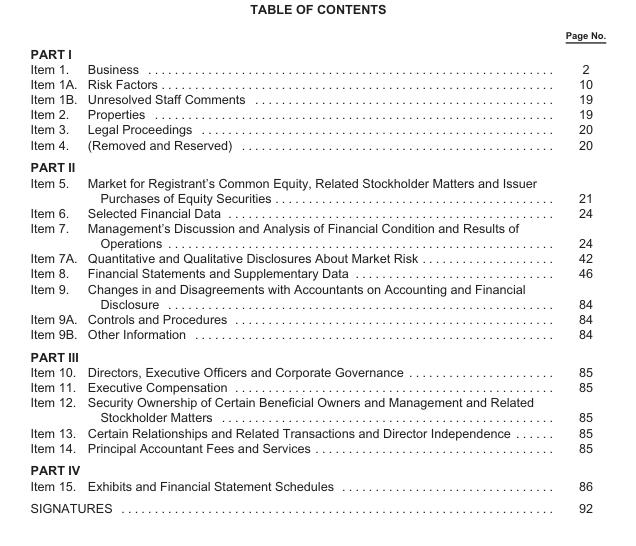table: (29, 28, 605, 514)
table column: (81, 28, 550, 514), (550, 28, 605, 514), (29, 28, 81, 514)
table column header: (29, 28, 605, 42)
table projected row header: (29, 155, 605, 174), (29, 344, 605, 363), (29, 458, 605, 477), (29, 42, 605, 60)
table row: (29, 219, 605, 250), (29, 174, 605, 204), (29, 280, 605, 310), (29, 394, 605, 424), (29, 136, 605, 155), (29, 155, 605, 174), (29, 325, 605, 344), (29, 344, 605, 363), (29, 439, 605, 458), (29, 458, 605, 477), (29, 477, 605, 496), (29, 42, 605, 60), (29, 496, 605, 514), (29, 75, 605, 91), (29, 378, 605, 394), (29, 60, 605, 75), (29, 91, 605, 106), (29, 106, 605, 121), (29, 121, 605, 136), (29, 204, 605, 219), (29, 250, 605, 265), (29, 265, 605, 280), (29, 310, 605, 325), (29, 363, 605, 378), (29, 424, 605, 439), (29, 28, 605, 42)
table spanning cell: (29, 496, 550, 514)
